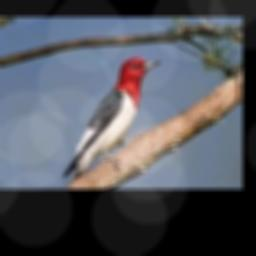Woodpecker: (63, 57, 161, 184)
